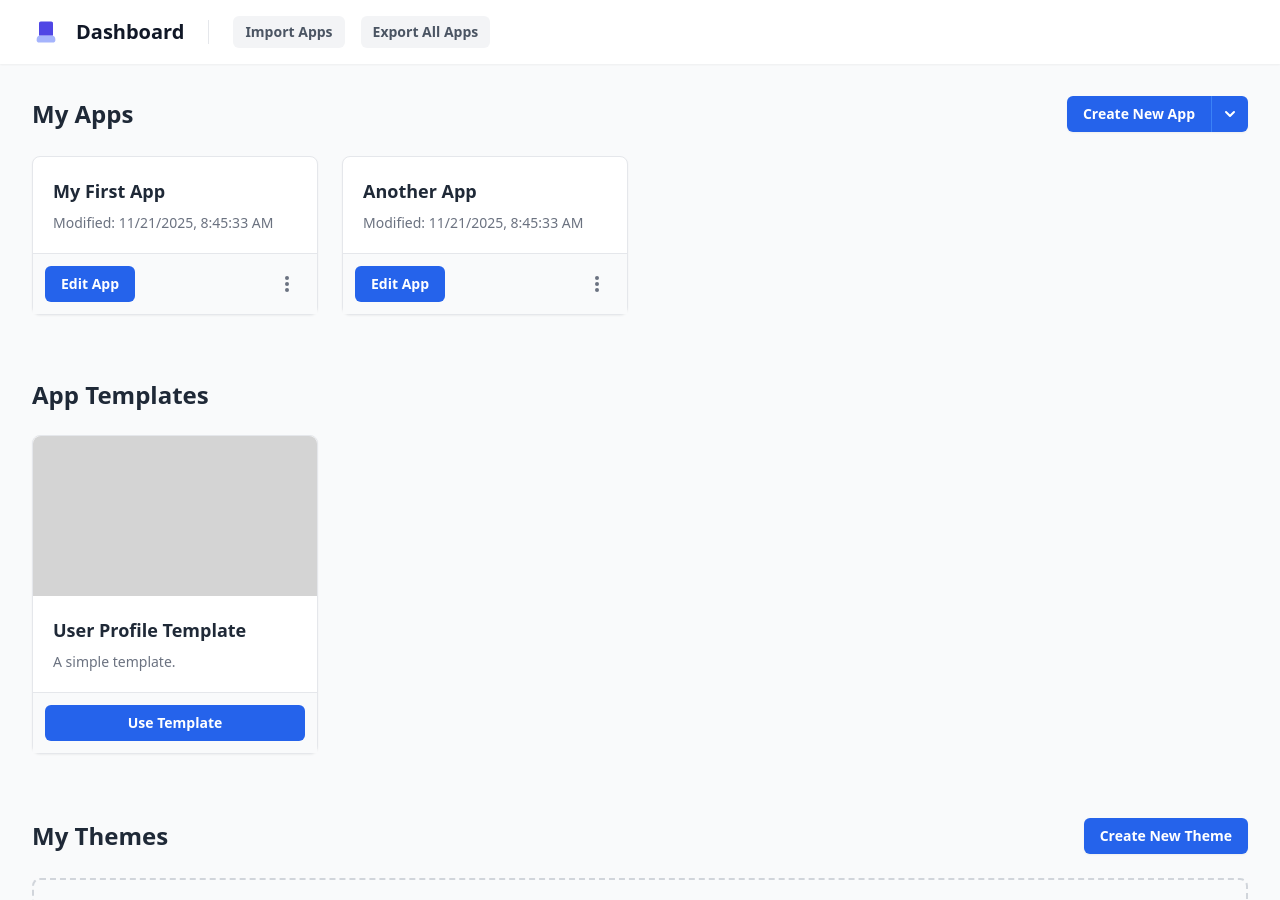
Test: Dashboard › should open the template selection modal
What coordinates should you click on to do the following:
click the button without text in the row of "My Apps"
I would click on:
 (1230, 114)
Its box is [1211, 96, 1248, 132].
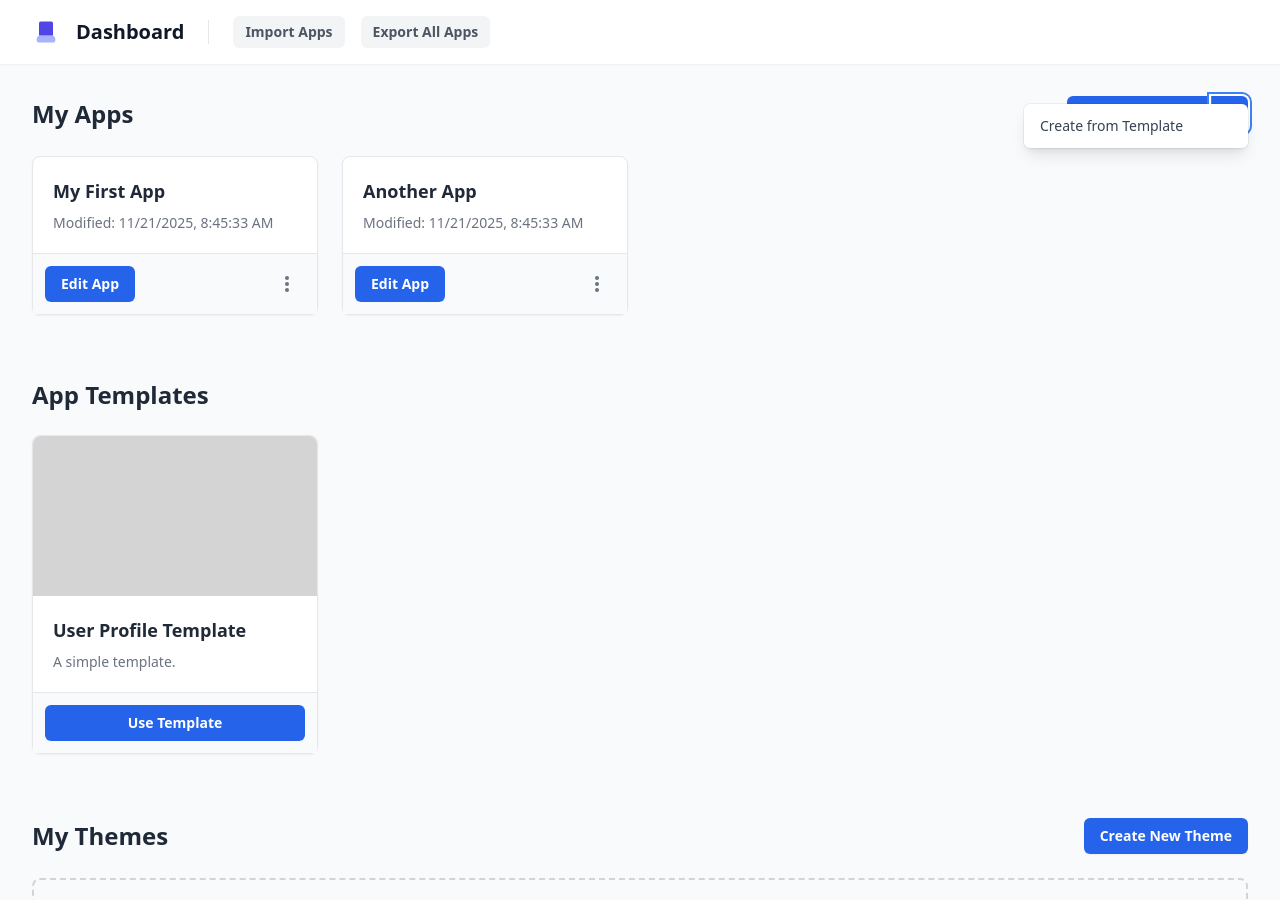
What coordinates should you click on to do the following:
click the menu item "Create from Template"
I would click on:
 (1112, 126)
Its box is [1040, 116, 1183, 135].
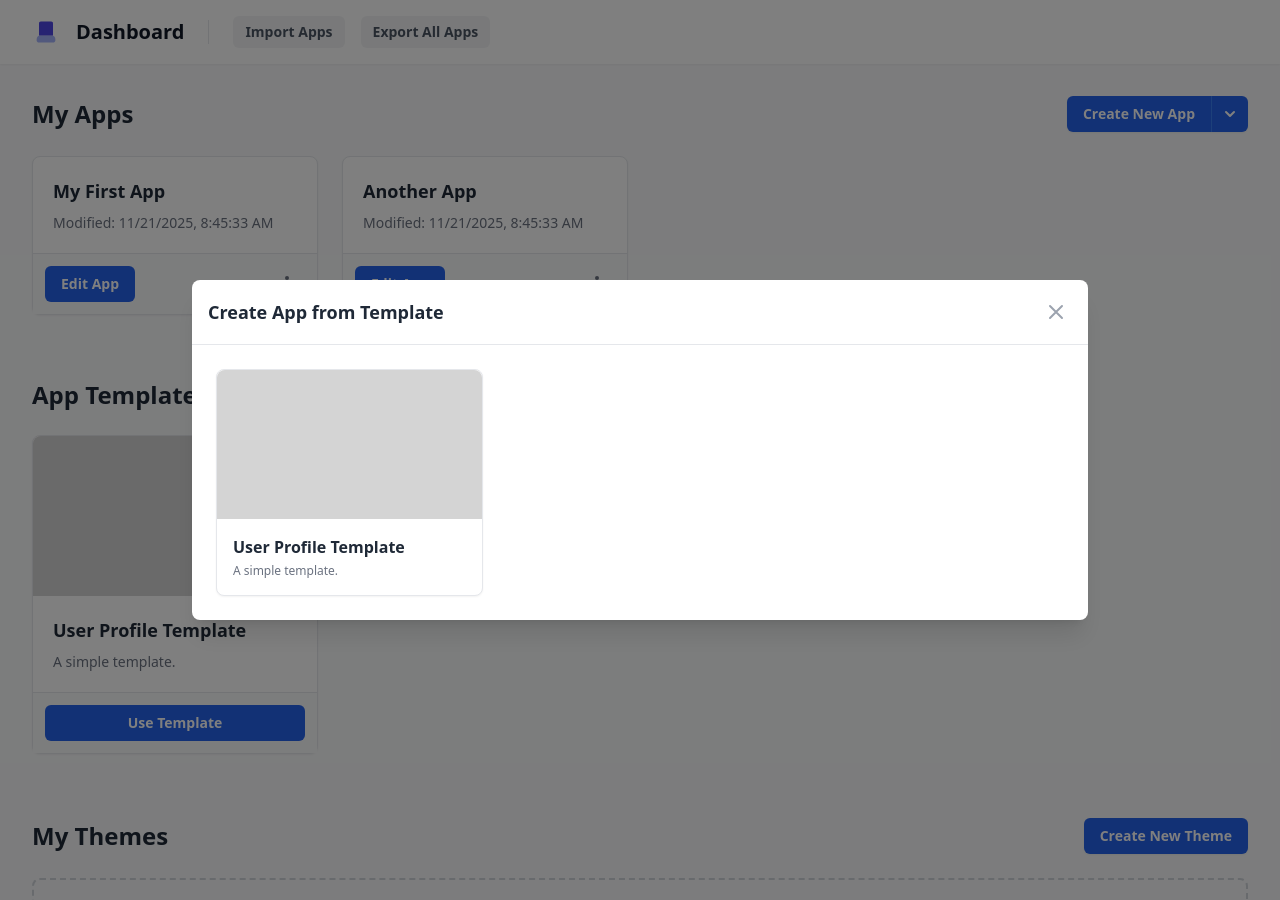
Now the element "Create App from Template" is shown, box [192, 280, 1088, 620]
Now the heading "User Profile Template" is shown, box [233, 536, 405, 558]
